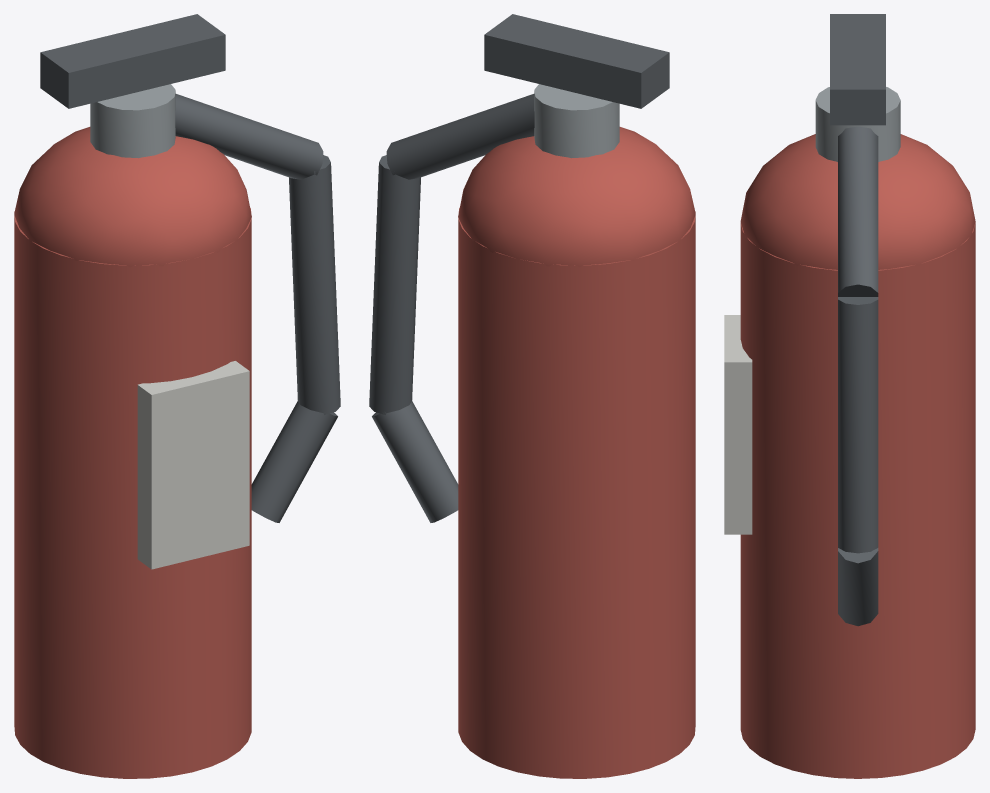
File: fire_extinguisher.glb
3 renders of one model, left to right at view 1: azimuth 30°, elevation 25°; view 2: azimuth 150°, elevation 25°; view 3: azimuth 270°, elevation 25°, orthographic.
Parts seen in each view (by area): view 1: cylinder_1, shoulder_2, panel_8, handle_4, hose_6, hose_5, valve_3, hose_7; view 2: cylinder_1, shoulder_2, handle_4, hose_6, hose_5, valve_3, hose_7; view 3: cylinder_1, shoulder_2, hose_6, hose_5, handle_4, panel_8, hose_7, valve_3.
Part boxes in pixels (left/top/right/bottom): cylinder_1: left=14, top=208, right=251, bottom=778; shoulder_2: left=14, top=127, right=251, bottom=267; panel_8: left=137, top=361, right=249, bottom=569; handle_4: left=40, top=14, right=225, bottom=108; hose_6: left=289, top=155, right=340, bottom=414; hose_5: left=175, top=94, right=323, bottom=179; valve_3: left=90, top=84, right=175, bottom=158; hose_7: left=251, top=401, right=337, bottom=522; cylinder_1: left=458, top=208, right=695, bottom=778; shoulder_2: left=458, top=127, right=695, bottom=267; handle_4: left=484, top=14, right=669, bottom=108; hose_6: left=369, top=155, right=420, bottom=414; hose_5: left=386, top=94, right=534, bottom=179; valve_3: left=534, top=84, right=619, bottom=158; hose_7: left=372, top=401, right=458, bottom=522; cylinder_1: left=740, top=222, right=975, bottom=778; shoulder_2: left=740, top=134, right=975, bottom=269; hose_6: left=838, top=297, right=878, bottom=553; hose_5: left=838, top=126, right=878, bottom=296; handle_4: left=830, top=14, right=885, bottom=125; panel_8: left=724, top=315, right=752, bottom=534; hose_7: left=838, top=548, right=878, bottom=626; valve_3: left=815, top=87, right=900, bottom=161.
Size of the model in its own units: 0.314 by 0.6675 by 0.2245.
